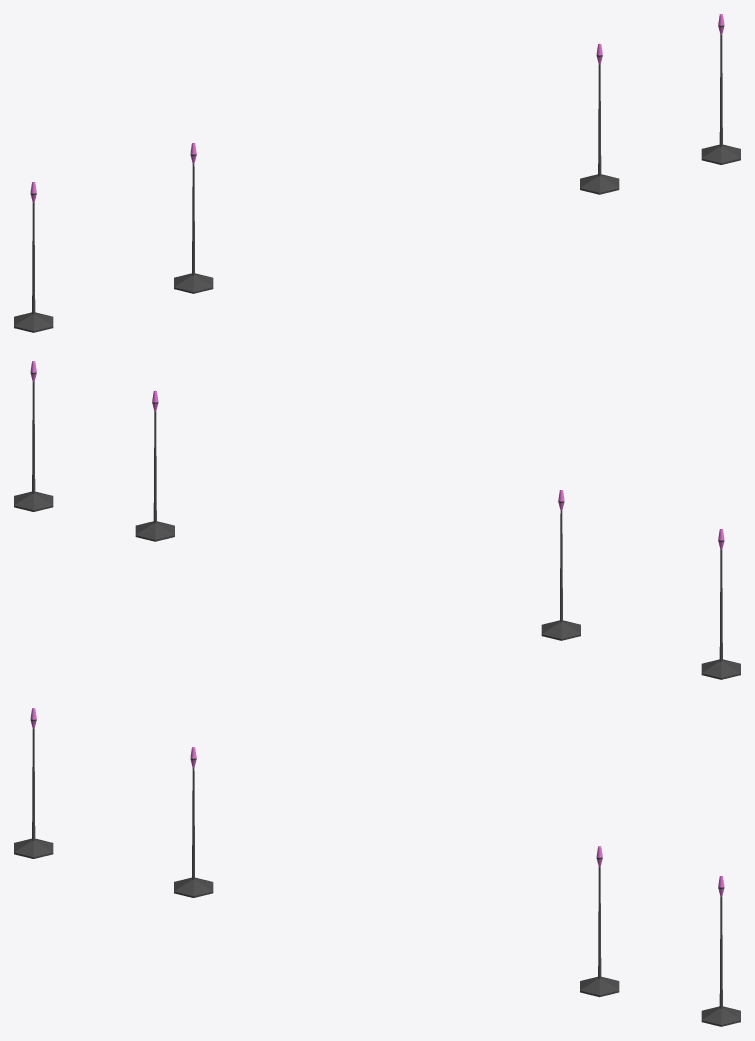
The model's file is Park_Lights.fbx.
The picture shows the model from 3 angles, top to bottom: view 1: azimuth 30°, elevation 25°; view 2: azimuth 150°, elevation 25°; view 3: azimuth 330°, elevation 25°; orthographic projection.
Parts seen in each view (by area): view 1: polySurface490, polySurface493, polySurface495, polySurface491; view 2: polySurface490, polySurface493, polySurface495, polySurface491; view 3: polySurface490, polySurface495, polySurface493, polySurface491.
Part boxes in pixels (x1,y1,x2,y2): polySurface490: [580, 43, 619, 194]; polySurface493: [14, 182, 53, 332]; polySurface495: [701, 14, 740, 164]; polySurface491: [174, 143, 213, 293]; polySurface490: [135, 390, 174, 541]; polySurface493: [701, 529, 740, 679]; polySurface495: [14, 361, 53, 511]; polySurface491: [541, 490, 580, 640]; polySurface490: [580, 846, 619, 997]; polySurface495: [701, 876, 740, 1026]; polySurface493: [14, 708, 53, 858]; polySurface491: [174, 747, 213, 897].
Bounding box in the file's own units: 89.4 × 16.53 × 4.19.
